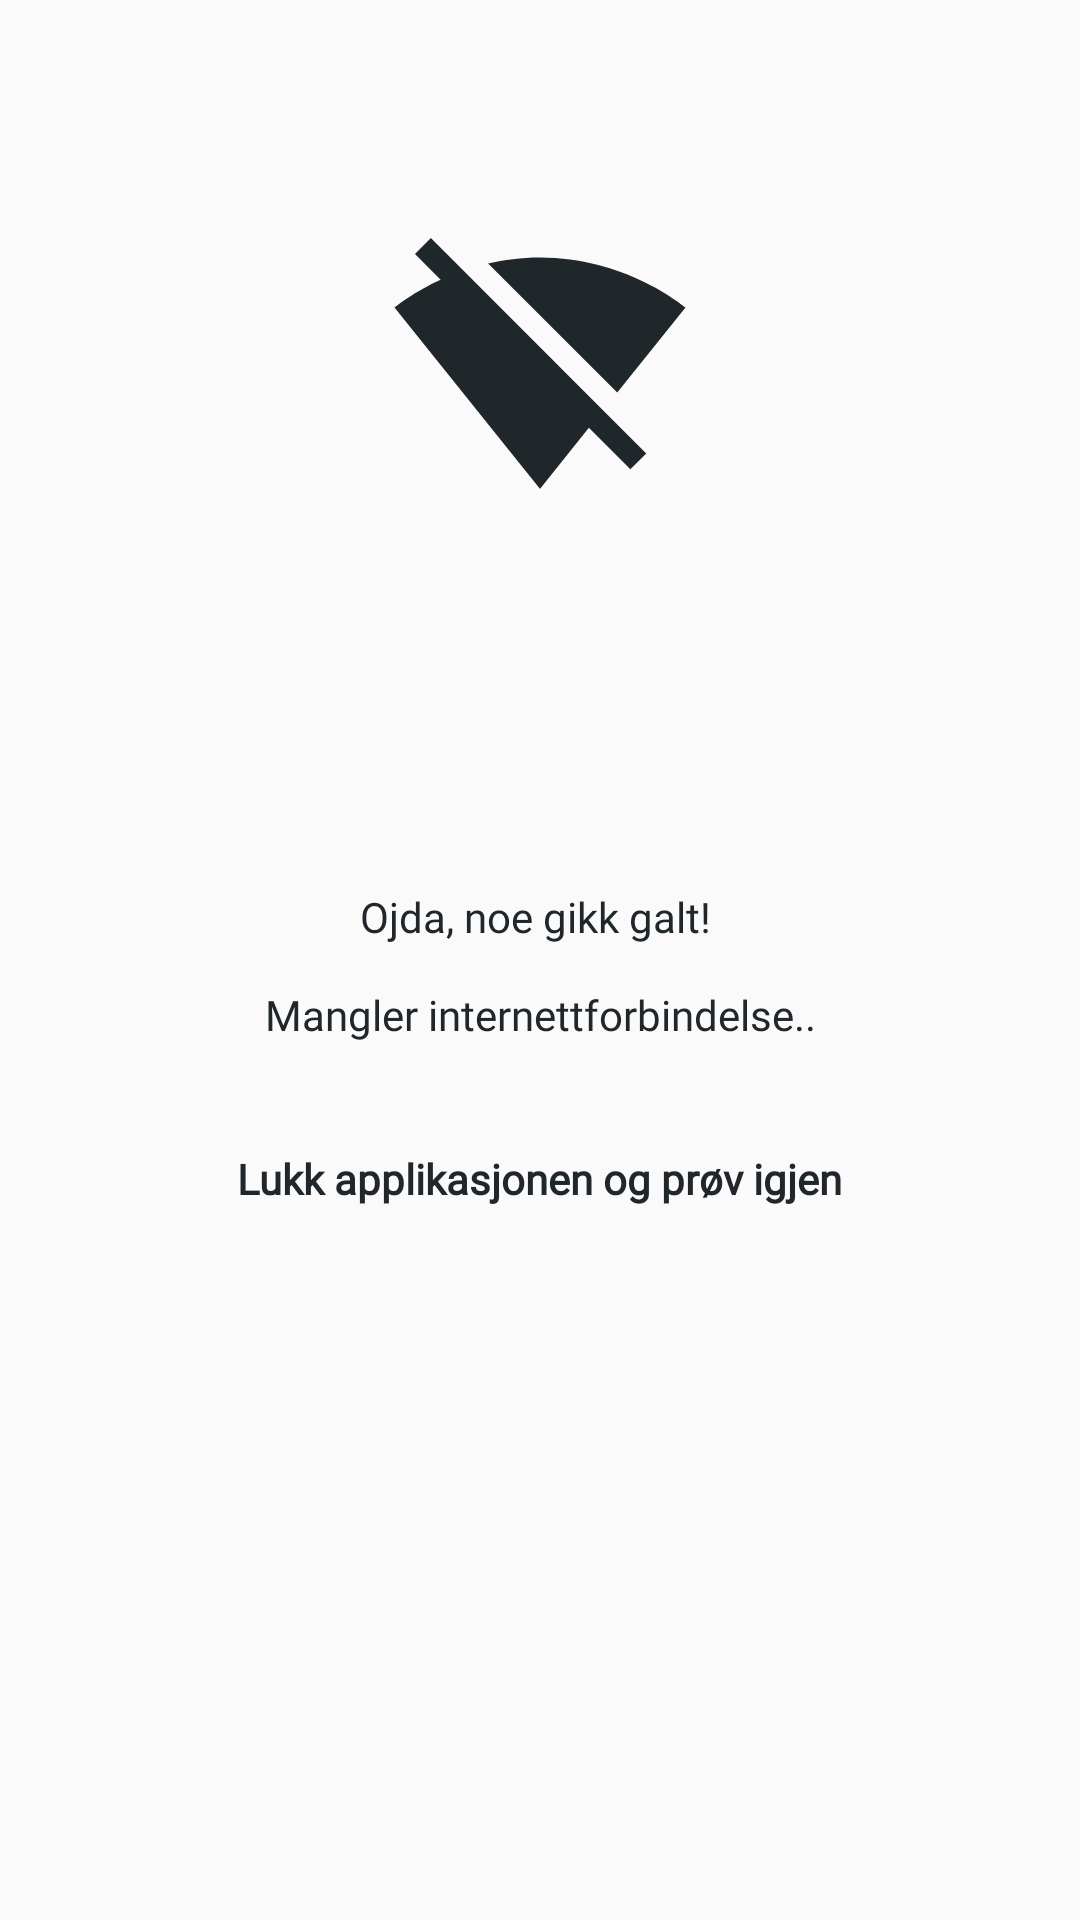

Where icons sit on this 1080px×1920px app screen, as BBox(x1, y1, x2, y2):
internett icon: BBox(394, 238, 686, 489)
